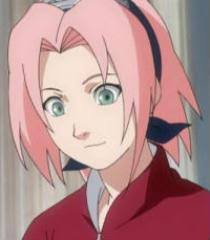sakura: (24, 3, 163, 171)
